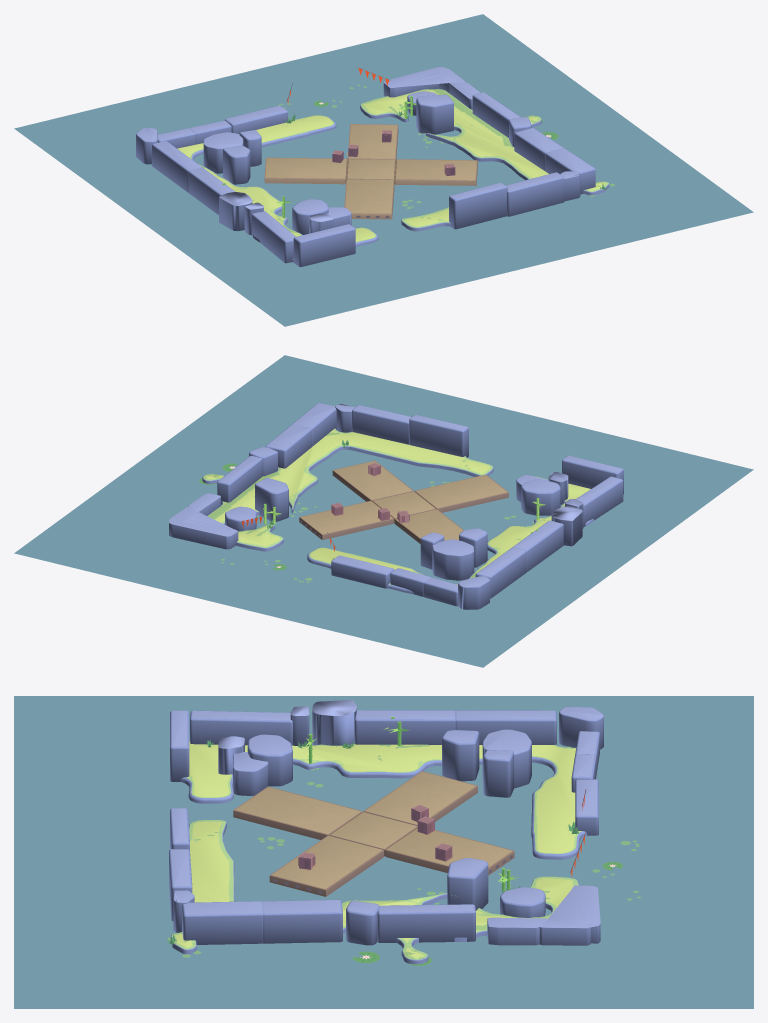
Rendered from plaza.glb.
The picture shows the model from 3 angles, top to bottom: view 1: azimuth 30°, elevation 25°; view 2: azimuth 150°, elevation 25°; view 3: azimuth 270°, elevation 25°; orthographic projection. The views are drawn at different scales.
Visible parts, largest first — view 1: FOUNTAIN_water, RAFT, BANK_0, BANK_1, STONE_19_0, STONE_22_0, BOULDER_3, STONE_21_0, BOULDER_7, STONE_17_0, STONE_9_1, STONE_15_1 (+13 smaller); view 2: FOUNTAIN_water, RAFT, BANK_0, BANK_1, BOULDER_3, STONE_19_0, STONE_21_0, BOULDER_5, STONE_9_1, STONE_9_0, STONE_17_0, STONE_1_0 (+15 smaller); view 3: FOUNTAIN_water, RAFT, BANK_1, BANK_0, BOULDER_3, STONE_10_0, STONE_15_1, STONE_15_0, STONE_9_0, STONE_17_0, STONE_9_1, BOULDER_12 (+19 smaller).
Boxes of the visible parts, x1,y1,x2,y2 form: FOUNTAIN_water: [14, 14, 753, 326]; RAFT: [264, 124, 477, 219]; BANK_0: [360, 89, 609, 231]; BANK_1: [177, 115, 378, 262]; STONE_19_0: [449, 182, 507, 229]; STONE_22_0: [293, 224, 355, 266]; BOULDER_3: [383, 67, 480, 109]; STONE_21_0: [506, 172, 564, 216]; BOULDER_7: [416, 94, 453, 134]; STONE_17_0: [251, 211, 295, 263]; STONE_9_1: [152, 141, 202, 192]; STONE_15_1: [545, 148, 595, 194]; FOUNTAIN_water: [14, 355, 753, 667]; RAFT: [299, 461, 508, 543]; BANK_0: [202, 428, 493, 551]; BANK_1: [307, 476, 593, 594]; BOULDER_3: [169, 493, 238, 549]; STONE_19_0: [409, 415, 468, 457]; STONE_21_0: [352, 405, 411, 444]; BOULDER_5: [432, 539, 474, 580]; STONE_9_1: [475, 547, 526, 598]; STONE_9_0: [513, 520, 563, 571]; STONE_17_0: [575, 476, 623, 527]; STONE_1_0: [331, 555, 394, 588]; FOUNTAIN_water: [14, 696, 753, 1008]; RAFT: [233, 772, 514, 896]; BANK_1: [181, 740, 586, 859]; BANK_0: [170, 820, 579, 964]; BOULDER_3: [487, 885, 600, 945]; STONE_10_0: [377, 904, 475, 942]; STONE_15_1: [182, 901, 263, 944]; STONE_15_0: [262, 899, 342, 943]; STONE_9_0: [354, 710, 455, 744]; STONE_17_0: [190, 710, 292, 745]; STONE_9_1: [455, 710, 556, 744]; BOULDER_12: [312, 700, 356, 745].
Bounding box in the file's own units: 85.47 × 9 × 85.47.
10 materials, 2 textured.
